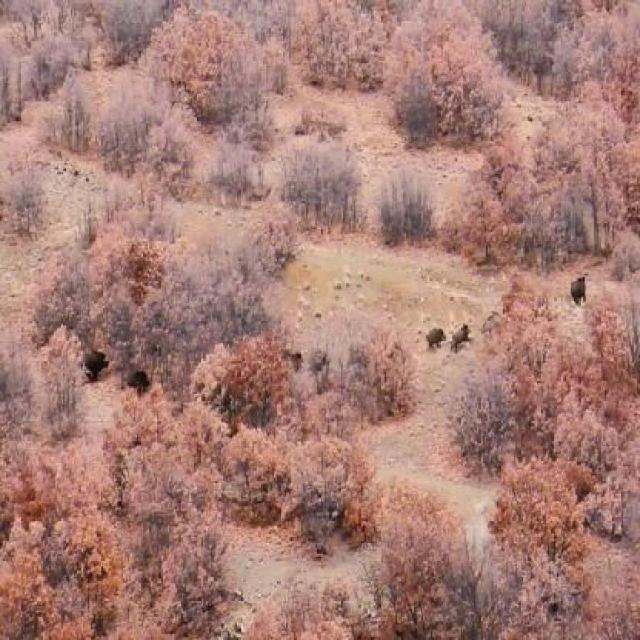pig: (82, 344, 113, 388), (419, 317, 443, 355), (569, 268, 591, 309), (449, 317, 470, 351)
